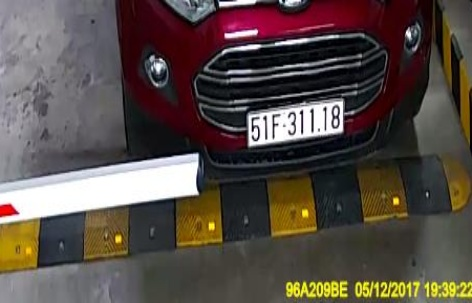plate: (245, 98, 347, 149)
